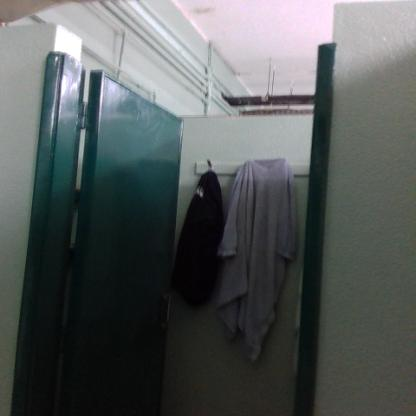open: (32, 22, 364, 416)
